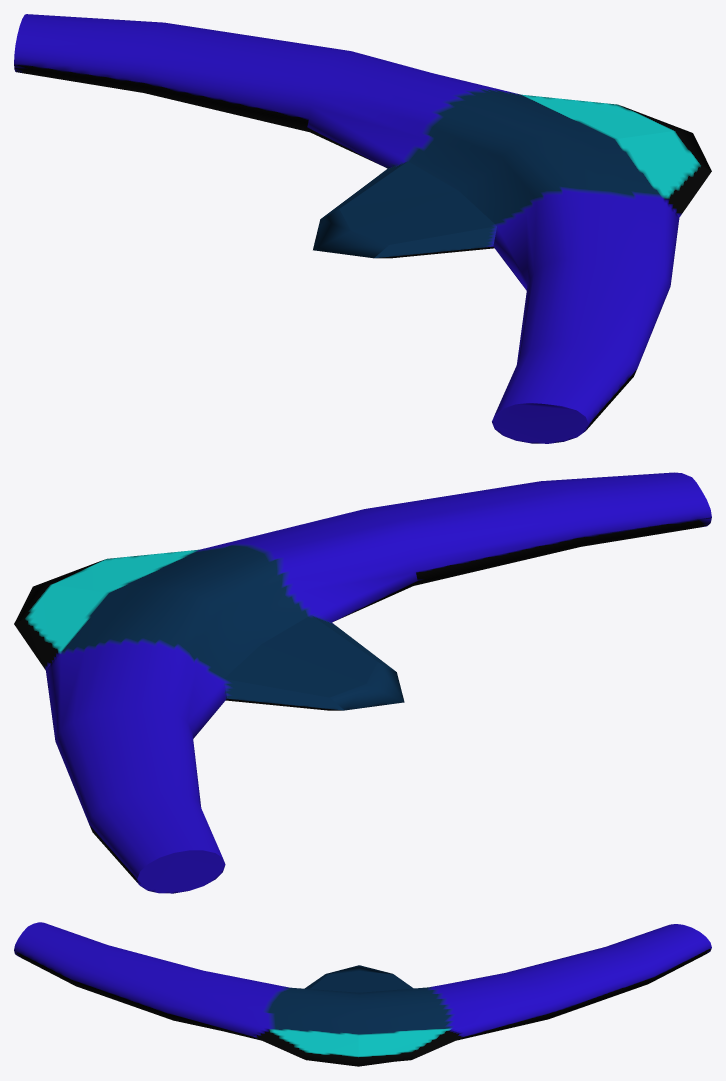
Rendered from mini ship texture 2.FBX.
The picture shows the model from 3 angles, top to bottom: view 1: azimuth 30°, elevation 25°; view 2: azimuth 150°, elevation 25°; view 3: azimuth 270°, elevation 25°; orthographic projection. The views are drawn at different scales.
Parts seen in each view (by area): view 1: Cylinder001; view 2: Cylinder001; view 3: Cylinder001.
Part boxes in pixels (left/top/right/bottom): Cylinder001: left=14, top=14, right=711, bottom=443; Cylinder001: left=14, top=472, right=711, bottom=893; Cylinder001: left=14, top=922, right=711, bottom=1066.
Size of the model in its own units: 42.37 by 5.94 by 90.51.
1 material, 1 textured.
